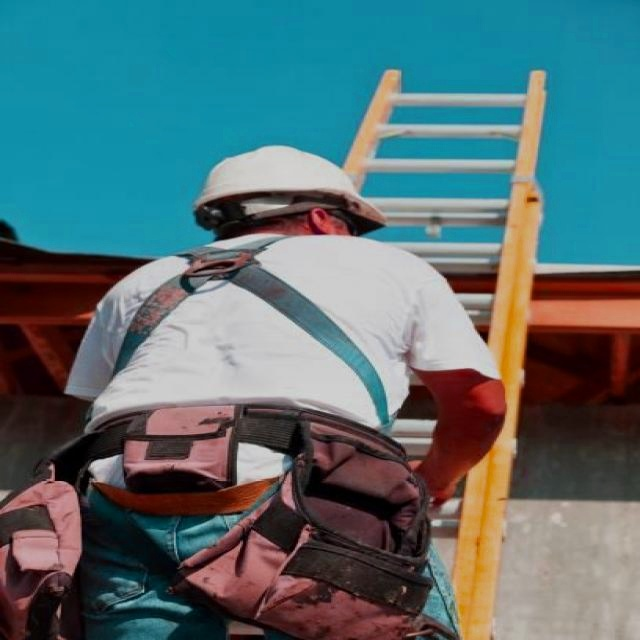safety belt: (90, 238, 376, 608)
